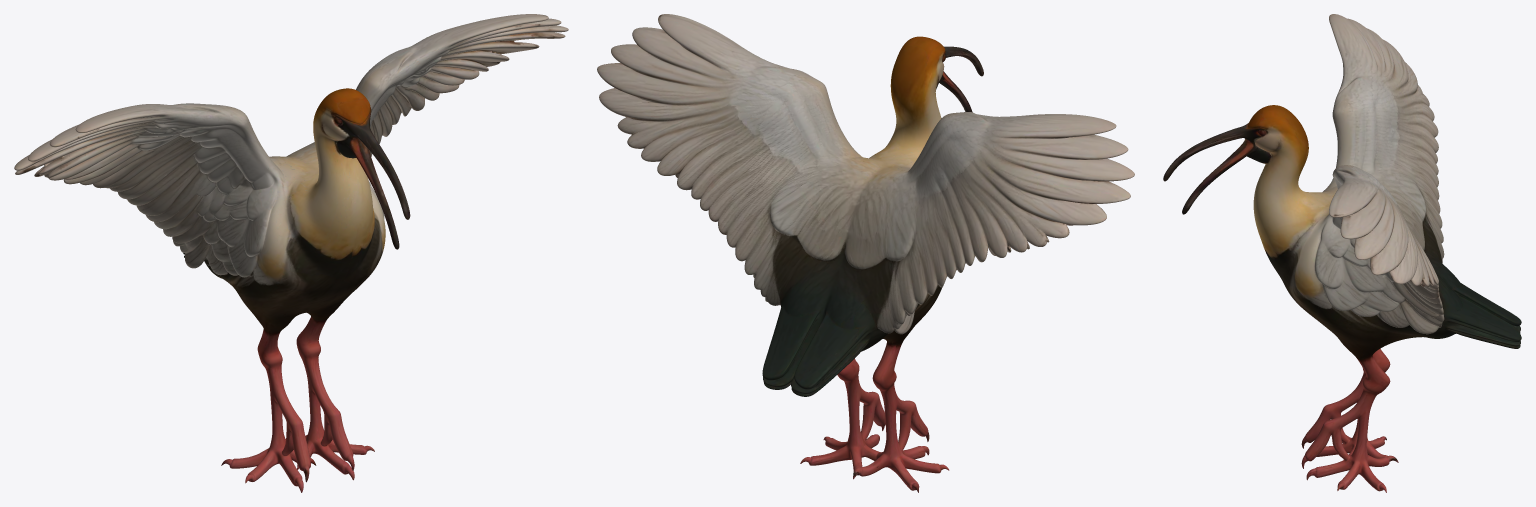
The model's file is bandurria.glb.
3 views of the same model, side by side, from view 1: azimuth 30°, elevation 25°; view 2: azimuth 150°, elevation 25°; view 3: azimuth 270°, elevation 25° (orthographic). The views are drawn at different scales.
Visible parts, largest first — view 1: material; view 2: material; view 3: material.
Part boxes in pixels (x1,y1,x2,y2): material: (14, 14, 568, 492); material: (597, 14, 1134, 492); material: (1163, 14, 1521, 492).
Size of the model in its own units: 1.05 by 0.7507 by 0.675.
Materials: 1 (1 with a texture image).
